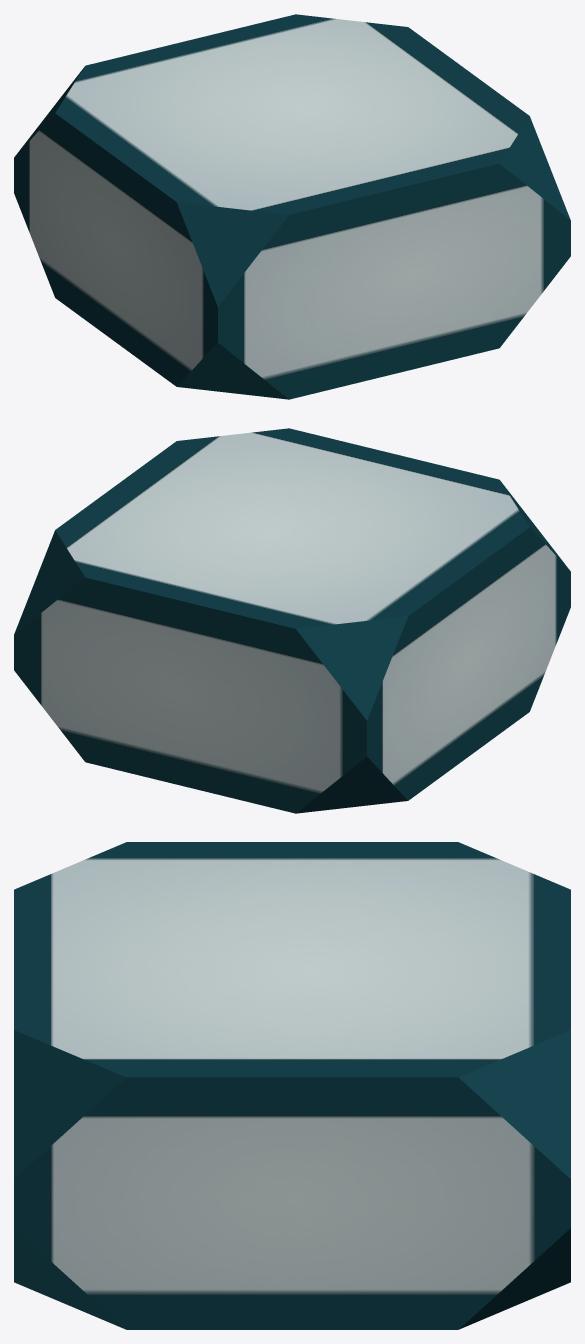
Rendered from HeZi02.FBX.
The picture shows the model from 3 angles, top to bottom: view 1: azimuth 30°, elevation 25°; view 2: azimuth 150°, elevation 25°; view 3: azimuth 270°, elevation 25°; orthographic projection. The views are drawn at different scales.
Parts seen in each view (by area): view 1: HeZi02; view 2: HeZi02; view 3: HeZi02.
Boxes of the visible parts, left/top/right/bottom form: HeZi02: left=14, top=14, right=570, bottom=399; HeZi02: left=14, top=428, right=570, bottom=813; HeZi02: left=14, top=842, right=570, bottom=1329.
Bounding box in the file's own units: 15.75 × 7.87 × 15.75.
